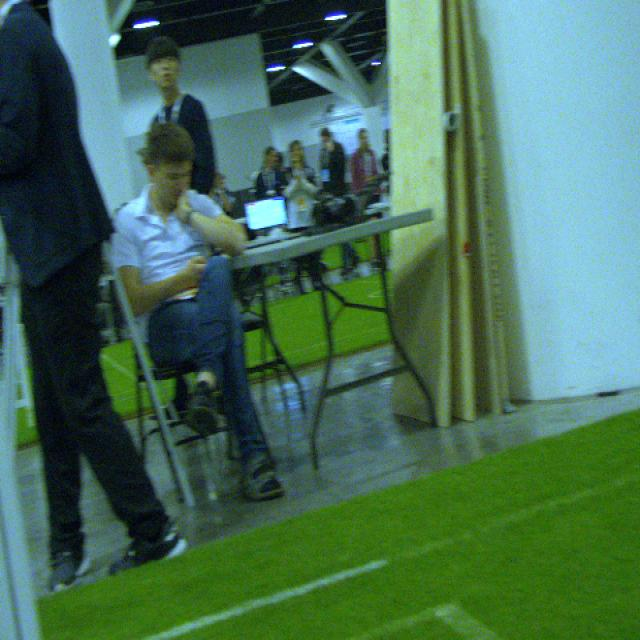goalpost: (1, 381, 41, 639)
